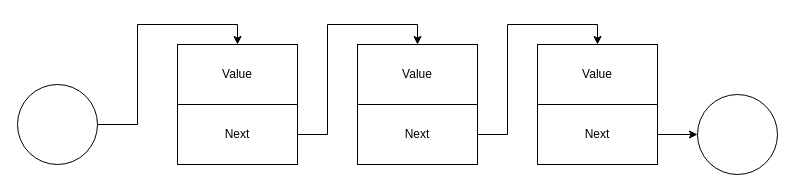
Image size: 795x192. Some labels were removed from this diagram. The centre of each missing label's shape, as x and y in pixels:
"HEAD*" goes at [57,124].
"NULL" goes at [737,134].
